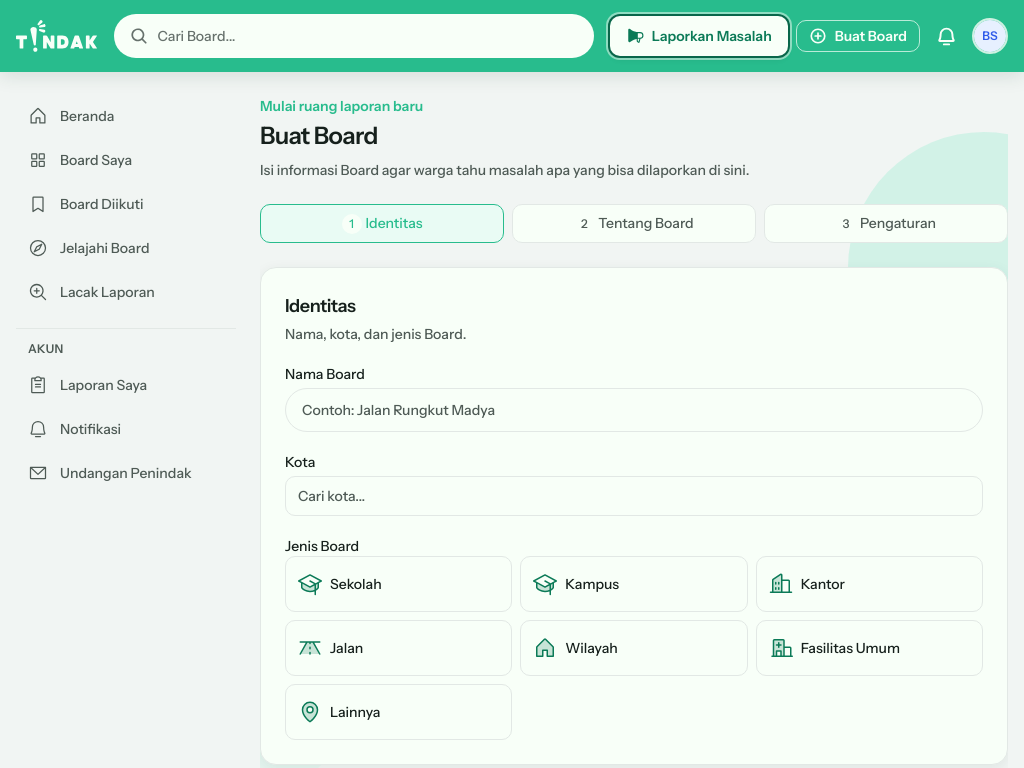
Test case: Buat Board › menampilkan peringatan Board serupa dengan badge verifikasi
This screenshot has width=1024, height=768.
Step 1. Type "Jalan Rungkut Madya" into the field labelled "Nama Board" → (634, 410), box [285,388,983,432]
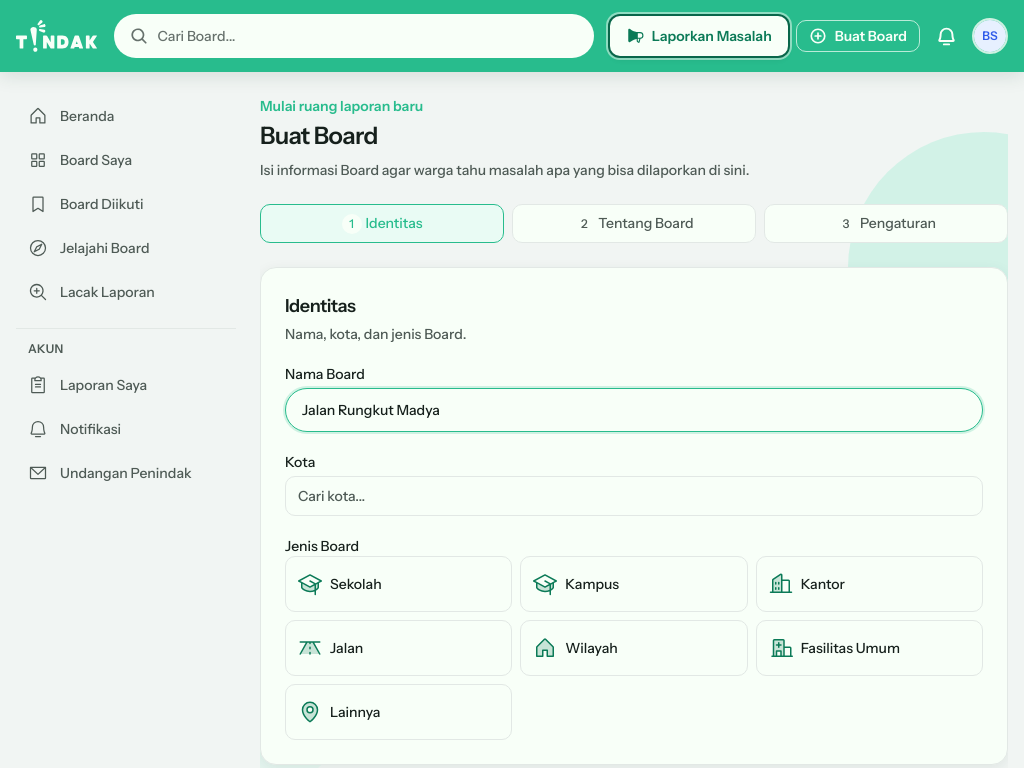
Step 2. Click the dropdown labelled "Kota" → (634, 496), box [285,476,983,516]
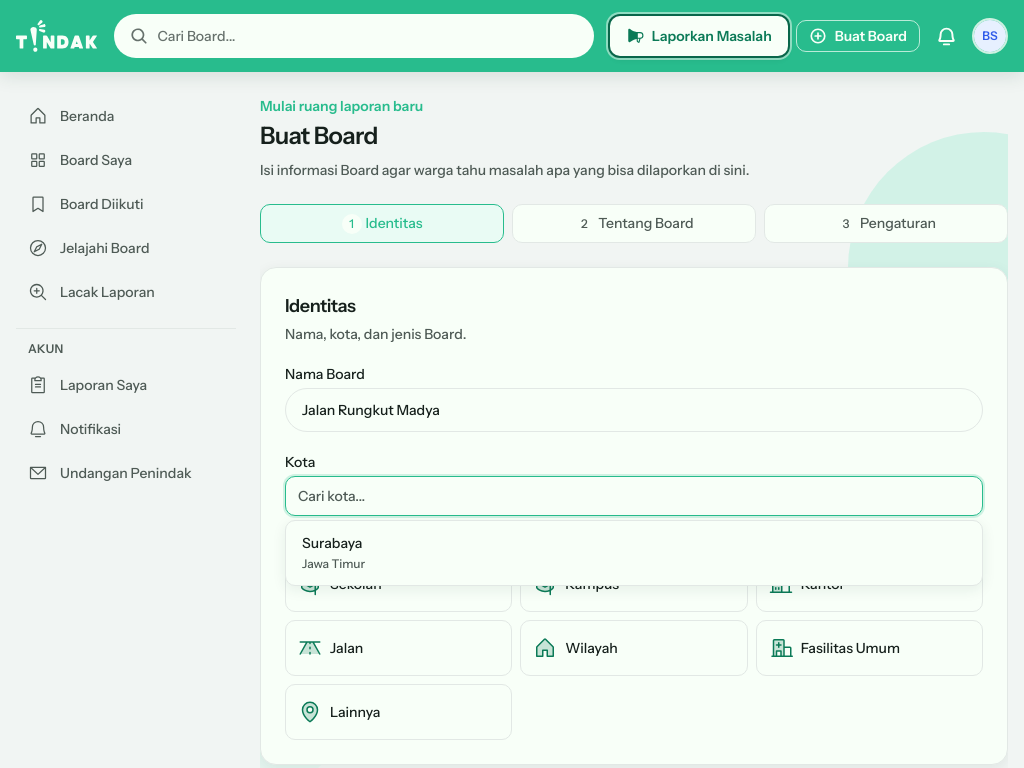
Step 3. Click the text "Surabaya" → (332, 543), box [302,534,362,552]
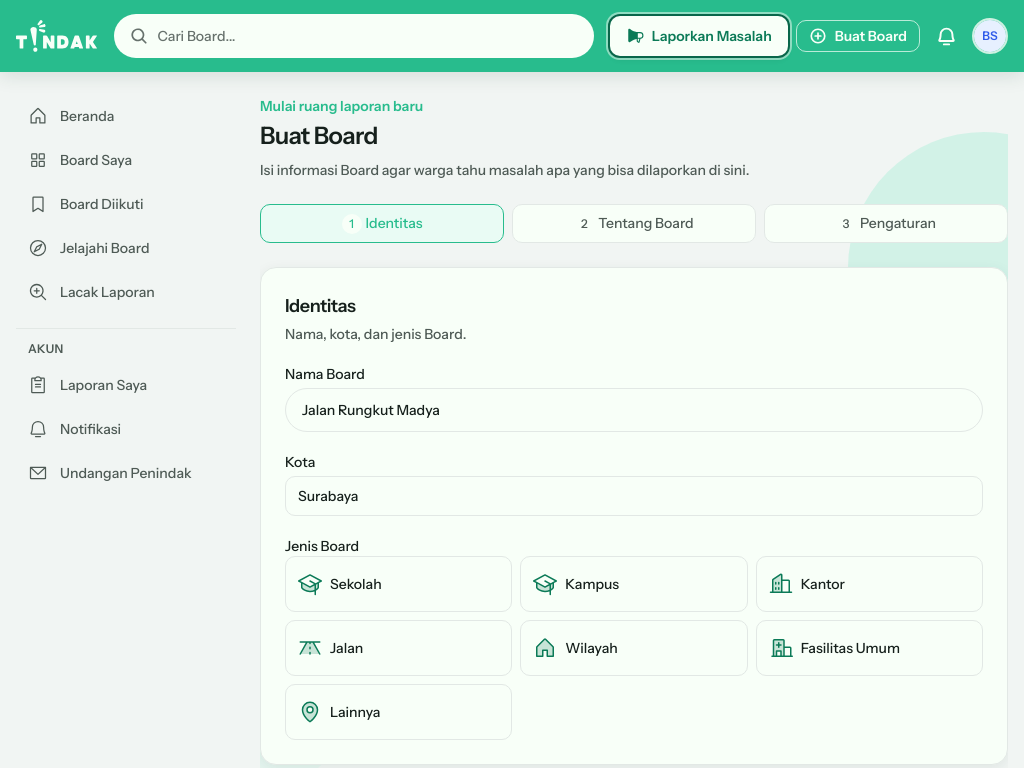
Step 4. Click the button "Jalan" → (399, 648), box [285,620,512,676]
(page scrolled)
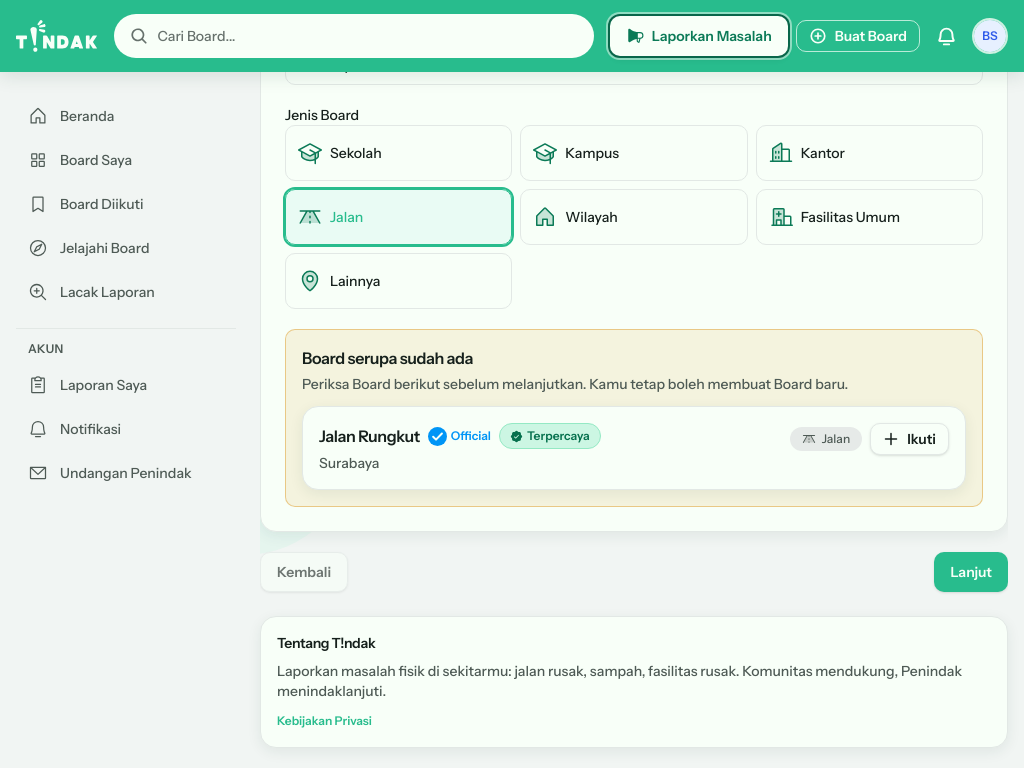
Expected: the heading "Board serupa sudah ada" is shown, [302,348,473,368]
Expected: the link "Jalan Rungkut Official Terpercaya Surabaya" is shown, [319,423,601,472]
Expected: the text "Kamu tetap boleh membuat Board baru" is shown, [302,375,848,393]
